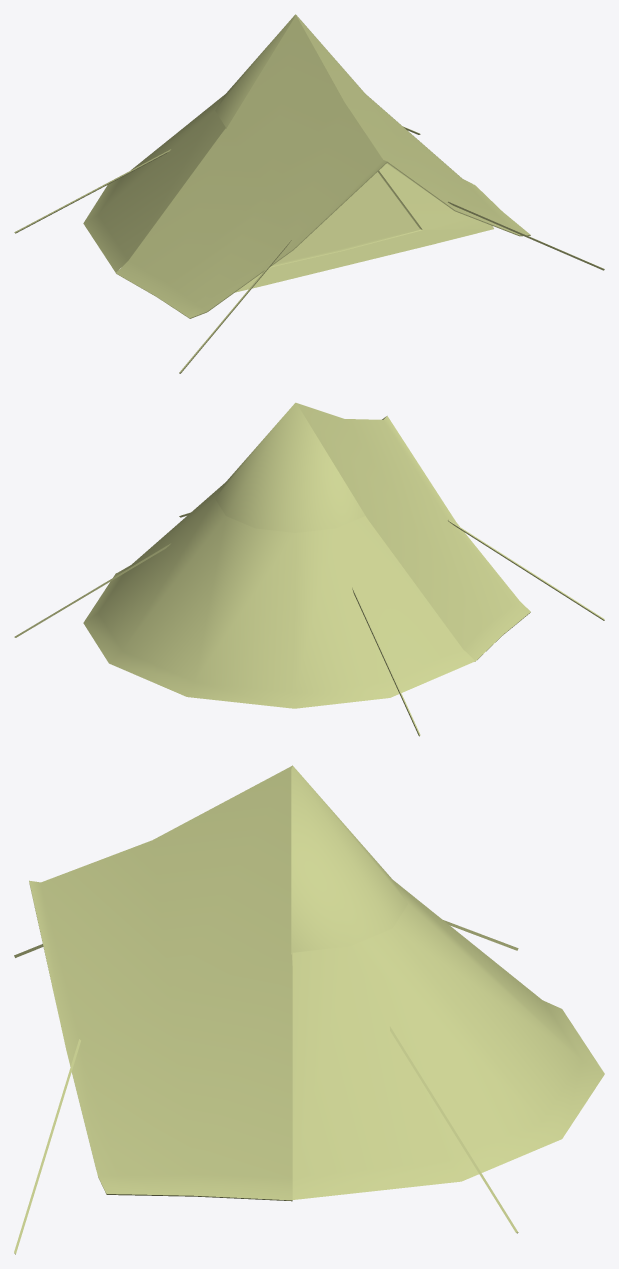
File: 3D_Tent.fbx
3 views of the same model, one above another, from view 1: azimuth 30°, elevation 25°; view 2: azimuth 150°, elevation 25°; view 3: azimuth 270°, elevation 25° (orthographic). The views are drawn at different scales.
Parts seen in each view (by area): view 1: Tent4; view 2: Tent4; view 3: Tent4.
Boxes of the visible parts, box(x1,y1,x2,y2) form: Tent4: box(14, 14, 604, 373); Tent4: box(14, 402, 604, 736); Tent4: box(14, 765, 604, 1254).
Size of the model in its own units: 396 by 211 by 331.
